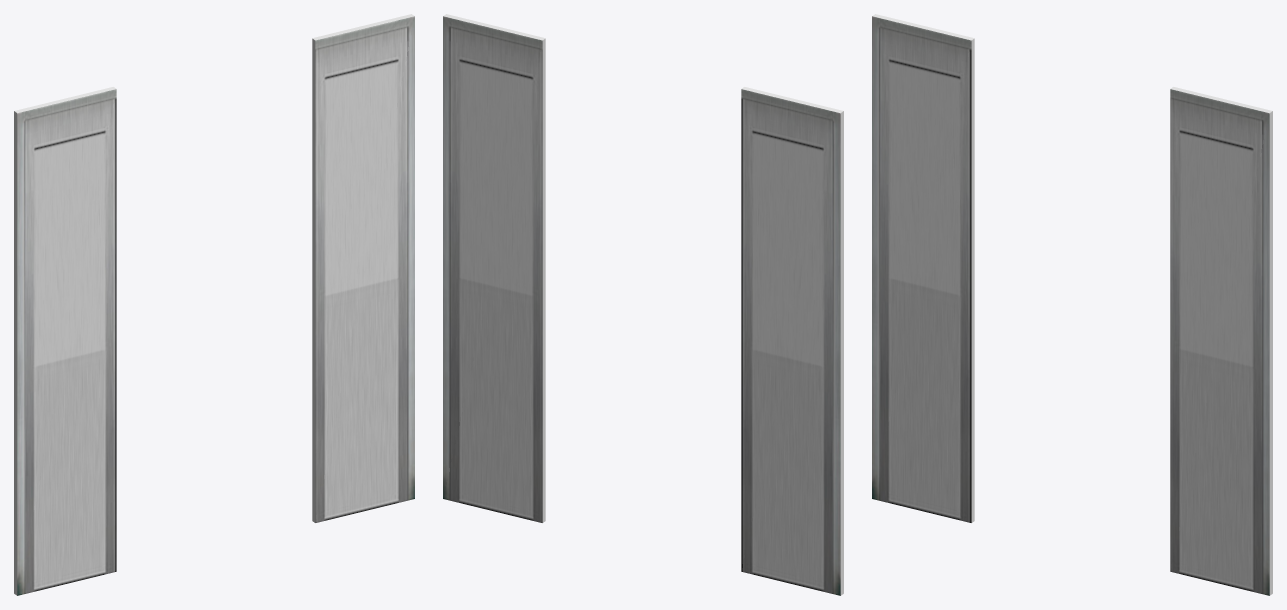
File: landing_door_TM017.glb
3 views of the same model, side by side, from view 1: azimuth 30°, elevation 25°; view 2: azimuth 150°, elevation 25°; view 3: azimuth 330°, elevation 25° (orthographic).
Visible parts, largest first — view 1: Landing_Door_L, Landing_Door_R; view 2: Landing_Door_L, Landing_Door_R; view 3: Landing_Door_L, Landing_Door_R.
Part boxes in pixels (<box>): Landing_Door_L: <box>14,87,116,595</box>; Landing_Door_R: <box>312,14,414,522</box>; Landing_Door_L: <box>741,87,843,595</box>; Landing_Door_R: <box>443,14,545,522</box>; Landing_Door_L: <box>872,14,974,522</box>; Landing_Door_R: <box>1170,87,1272,595</box>.
Size of the model in its own units: 1.81 by 2.1 by 0.025.
1 material, 1 textured.
